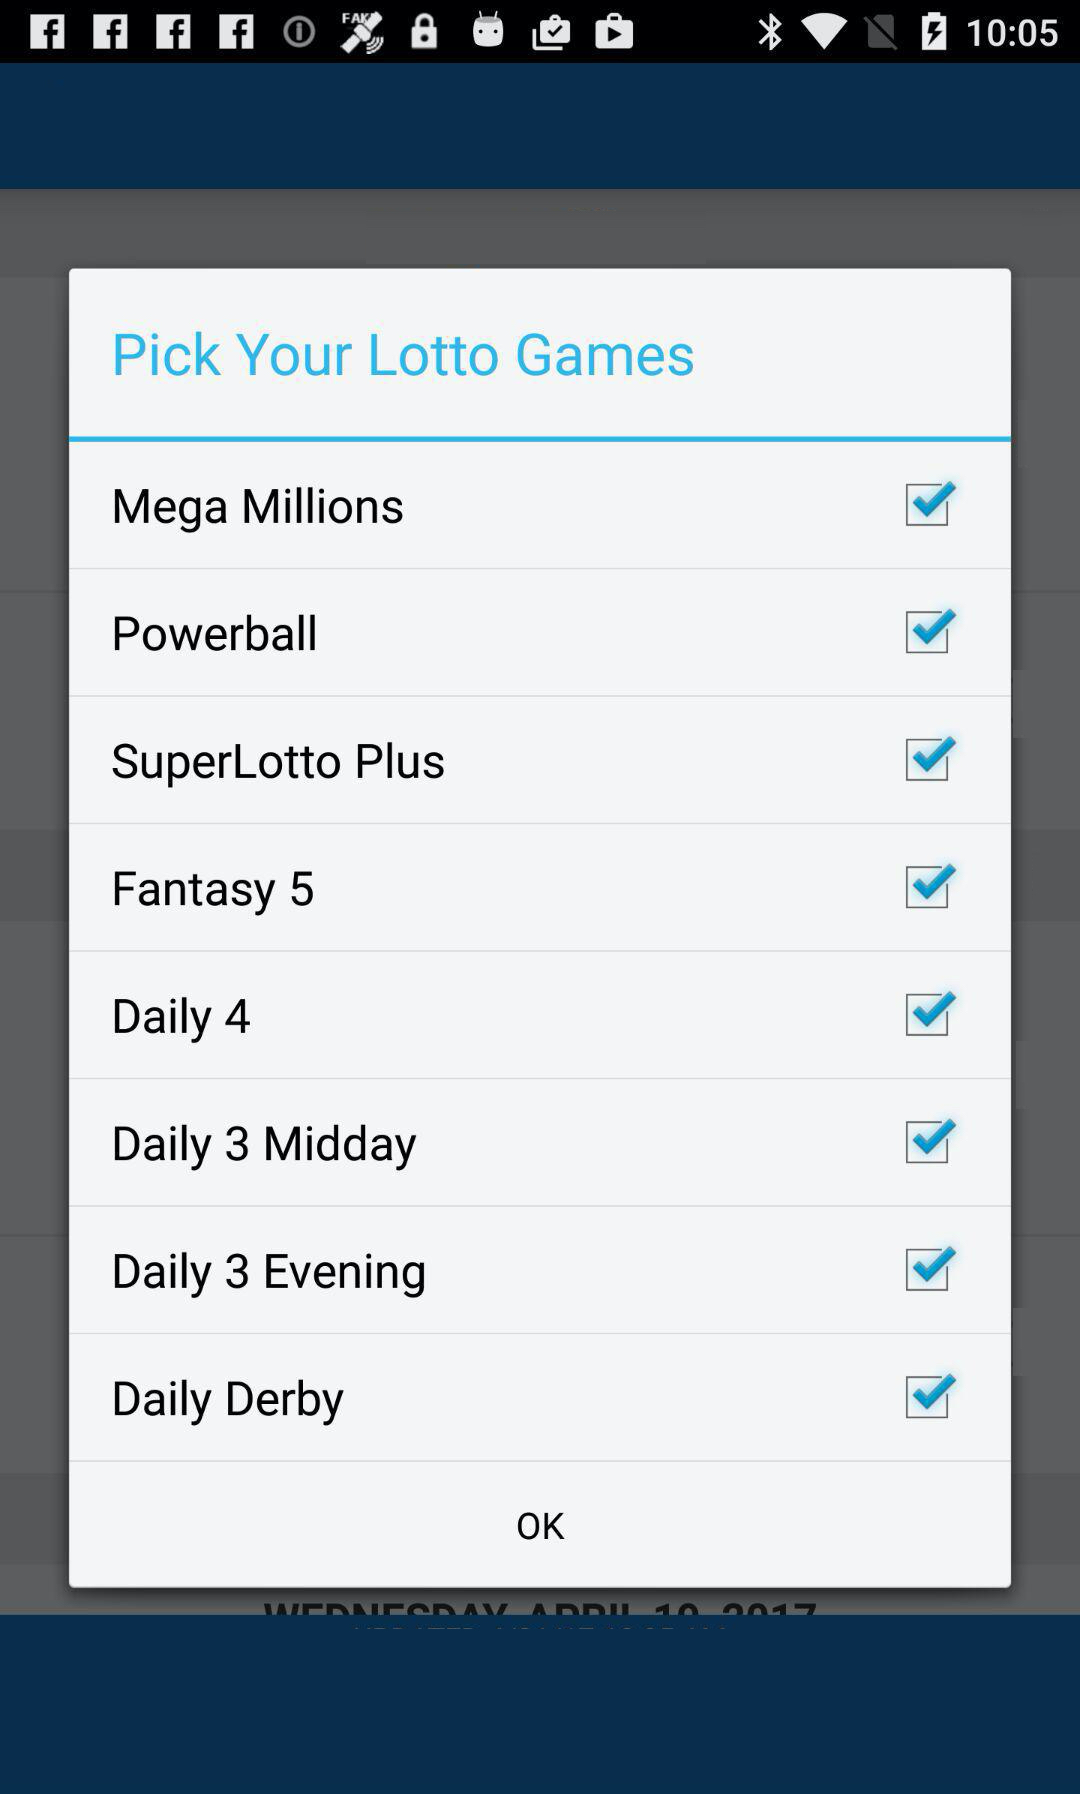CheckedTextView: (114, 481, 960, 536), (114, 989, 960, 1044), (114, 1117, 960, 1173), (113, 1246, 958, 1301), (114, 862, 958, 918), (114, 1372, 958, 1428), (111, 736, 960, 789), (114, 607, 960, 655)
Modal: (69, 268, 1012, 1589)
Text: (114, 331, 694, 378), (111, 741, 446, 789), (113, 1249, 427, 1301), (114, 1123, 419, 1173), (114, 484, 405, 536), (114, 1375, 346, 1428), (114, 869, 315, 918), (114, 613, 318, 654), (114, 994, 252, 1044)
TextButton: (70, 1463, 1012, 1589)
UpperTaskBar: (1, 1, 1080, 64)
